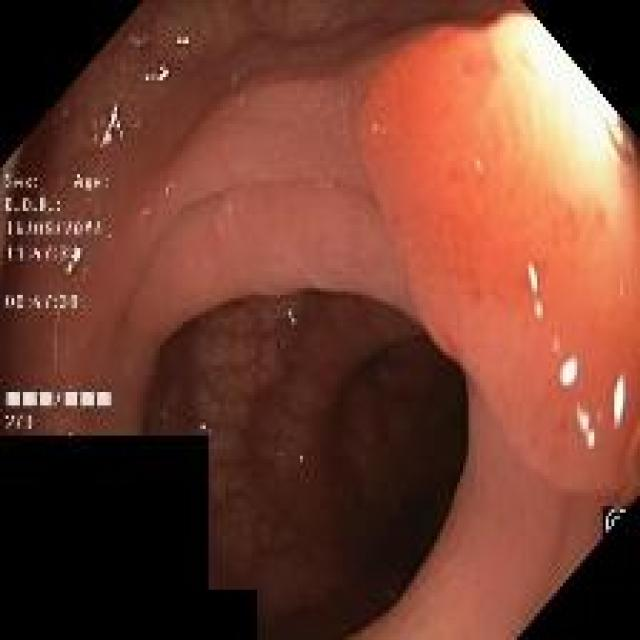Polyps: (361, 15, 640, 499)
